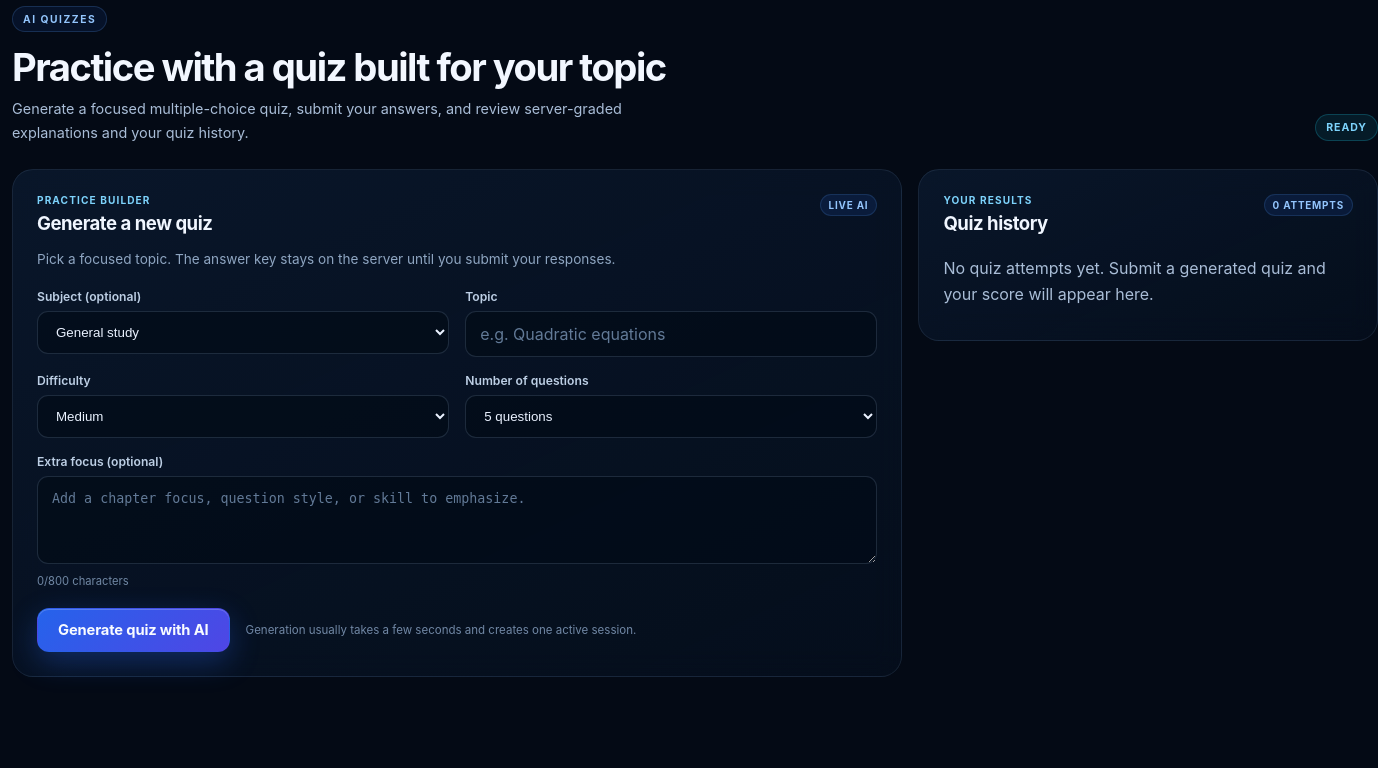
quiz page › generates a quiz, prevents premature submission, and shows no answer key
The width and height of the screenshot is (1378, 768).
Type "Mechanics" into the field with placeholder "e.g. Quadratic equations".
click(671, 334); type("Mechanics")  # box [465,311,877,357]
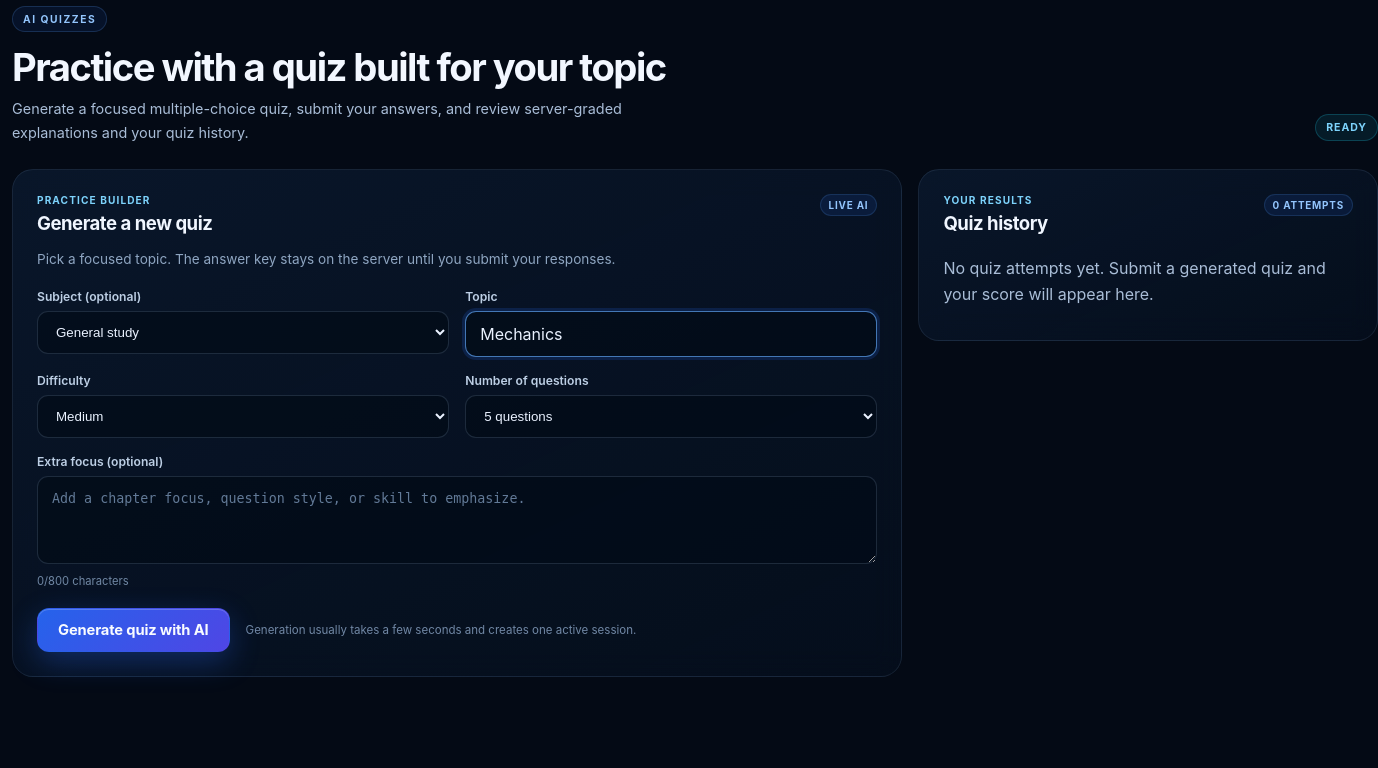
Select "5 questions" in the dropdown labelled "Number of questions" at (671,417), box [465,395,877,438]
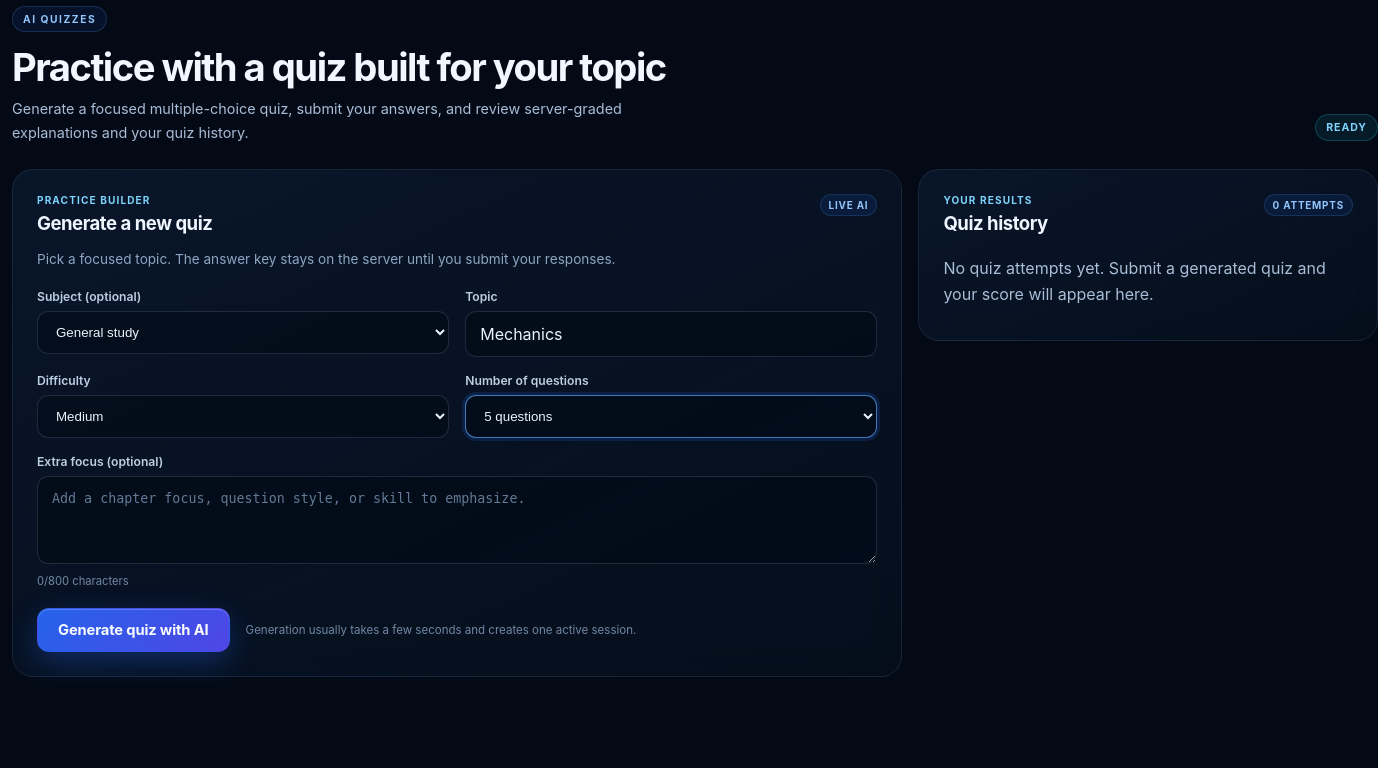
Select "Hard" in the dropdown labelled "Difficulty" at (243,417), box [37,395,449,438]
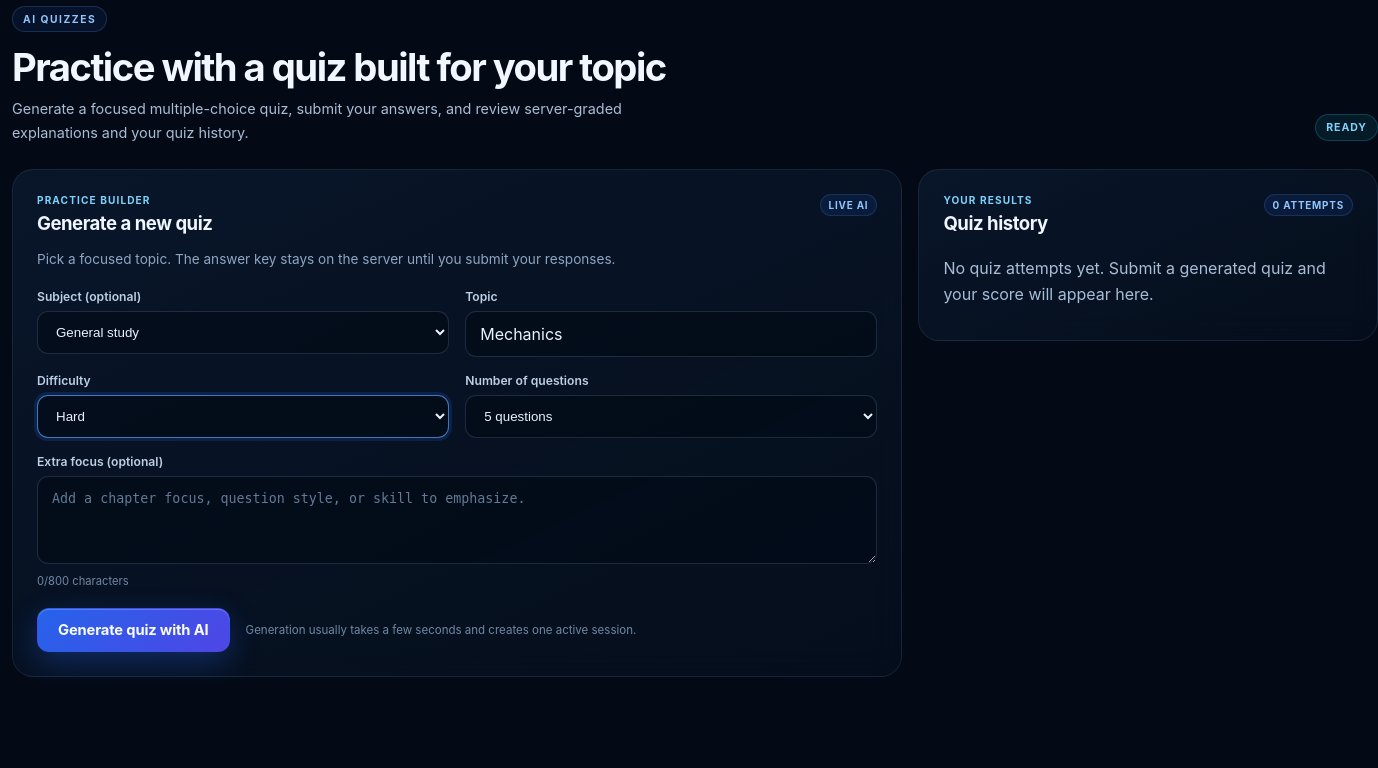
Click the button "Generate quiz with AI".
click(133, 630)  # box [37,608,230,652]
(page scrolled)
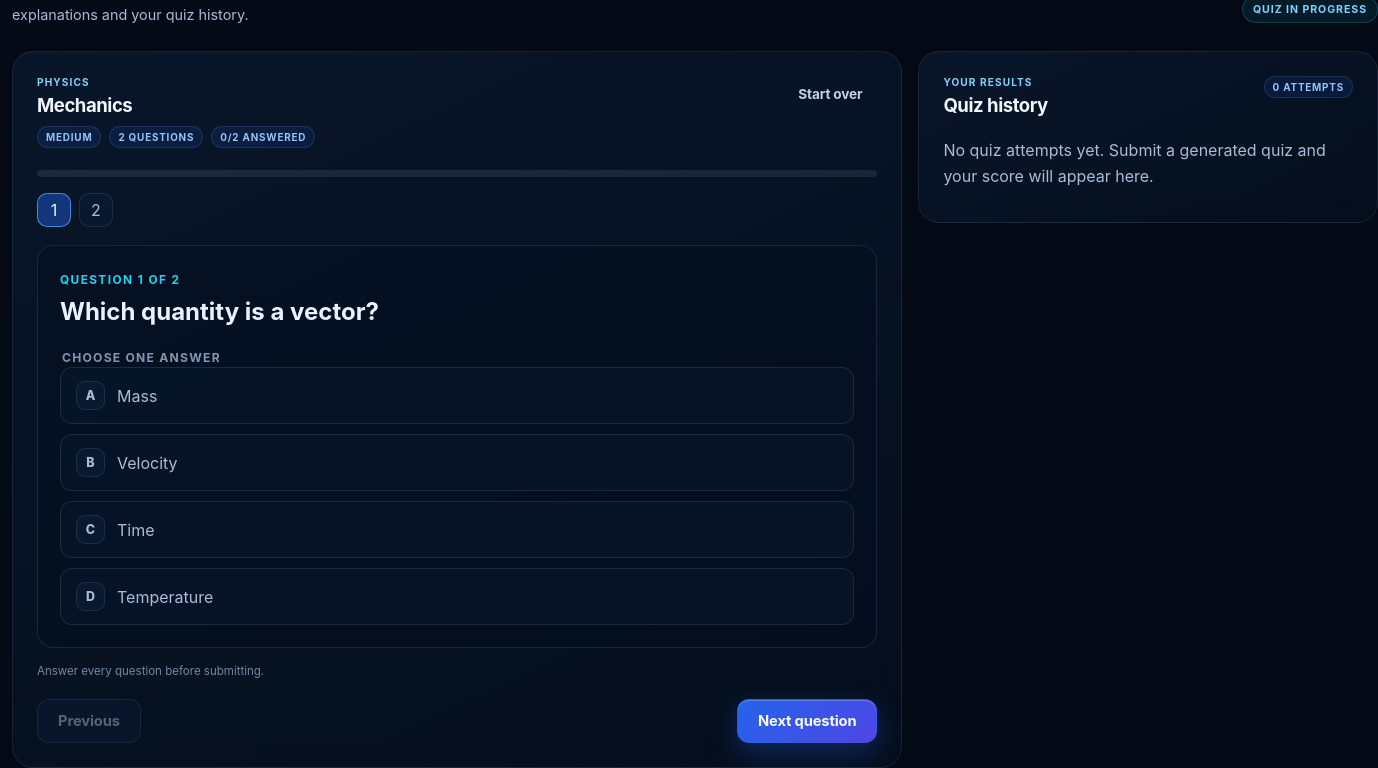
Expected: the heading "Which quantity is a vector?" is shown, [60,297,379,326]
Expected: the heading "Mechanics" is shown, [37,94,132,116]
Click the button "Next question".
click(807, 721)  # box [737,699,877,743]
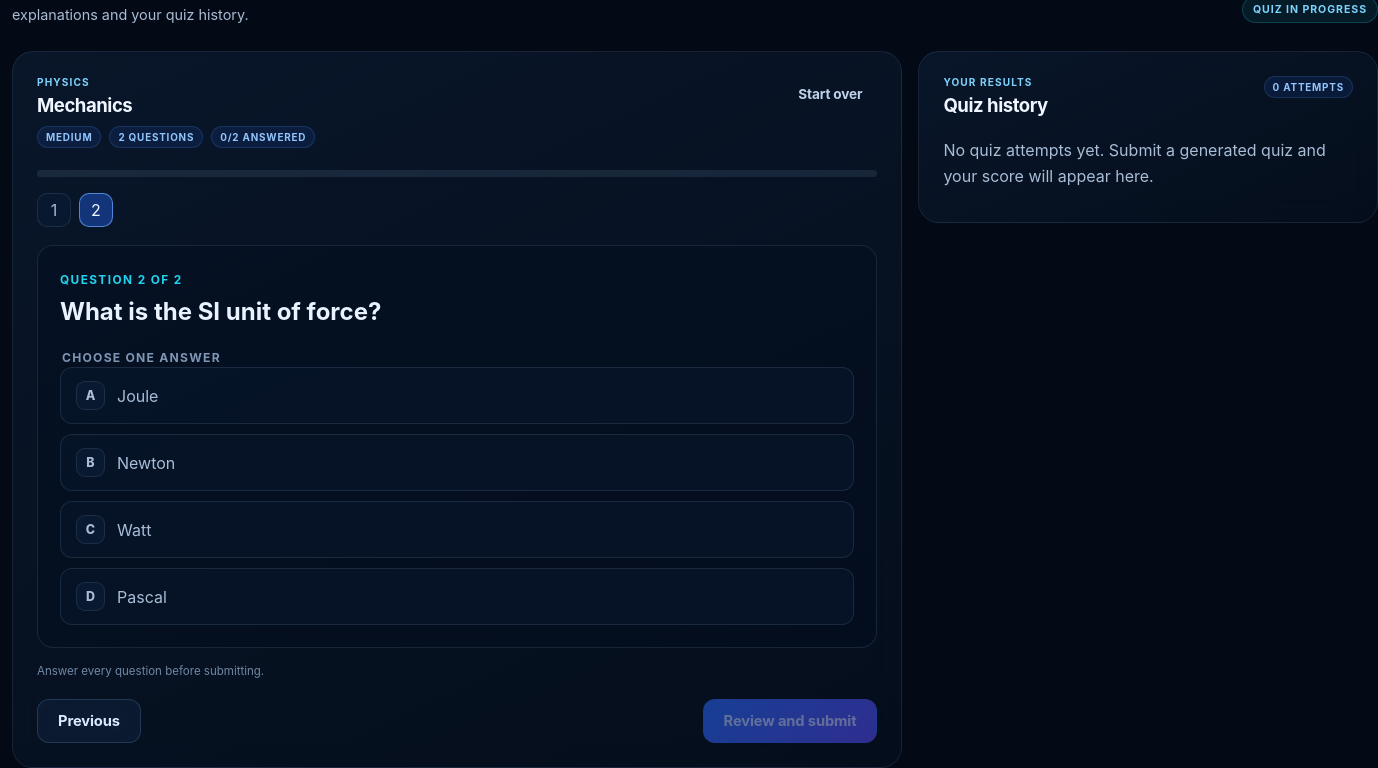
Expected: the text "Answer every question before submitting." is shown, [37,664,264,678]
Expected: the button "Review and submit" is disabled, [703,699,877,743]
